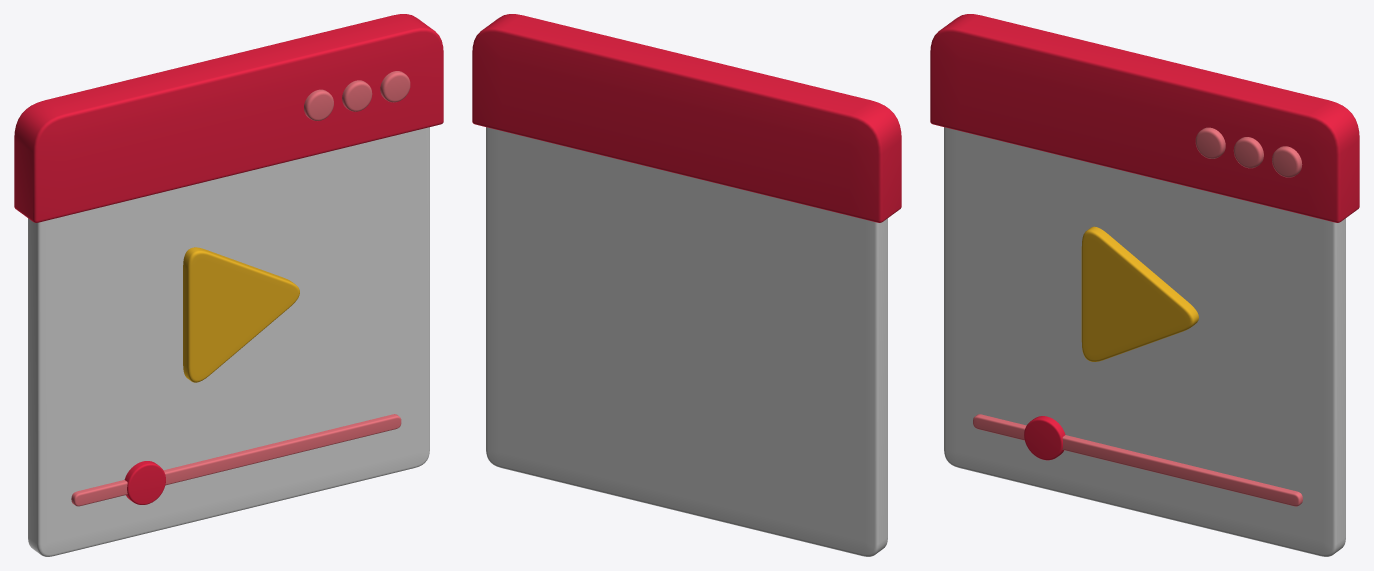
Rendered from social-media-content-achievement-1678913550952.glb.
3 renders of one model, left to right at view 1: azimuth 30°, elevation 25°; view 2: azimuth 150°, elevation 25°; view 3: azimuth 330°, elevation 25°, orthographic.
Visible parts, largest first — view 1: browser_main, play_button, Line, Slider, button3, button2, button1; view 2: browser_main; view 3: browser_main, play_button, Line, Slider, button1, button2, button3.
Part boxes in pixels (left/top/right/bottom): browser_main: left=14, top=14, right=443, bottom=556; play_button: left=183, top=247, right=299, bottom=382; Line: left=71, top=414, right=401, bottom=506; Slider: left=124, top=461, right=165, bottom=504; button3: left=380, top=71, right=410, bottom=102; button2: left=342, top=80, right=372, bottom=111; button1: left=304, top=89, right=333, bottom=120; browser_main: left=472, top=14, right=901, bottom=556; browser_main: left=930, top=14, right=1359, bottom=556; play_button: left=1081, top=226, right=1198, bottom=361; Line: left=973, top=414, right=1302, bottom=506; Slider: left=1024, top=416, right=1065, bottom=460; button1: left=1195, top=127, right=1225, bottom=158; button2: left=1233, top=137, right=1263, bottom=168; button3: left=1272, top=146, right=1302, bottom=177.
Size of the model in its own units: 2.33 by 2.41 by 0.2492.
